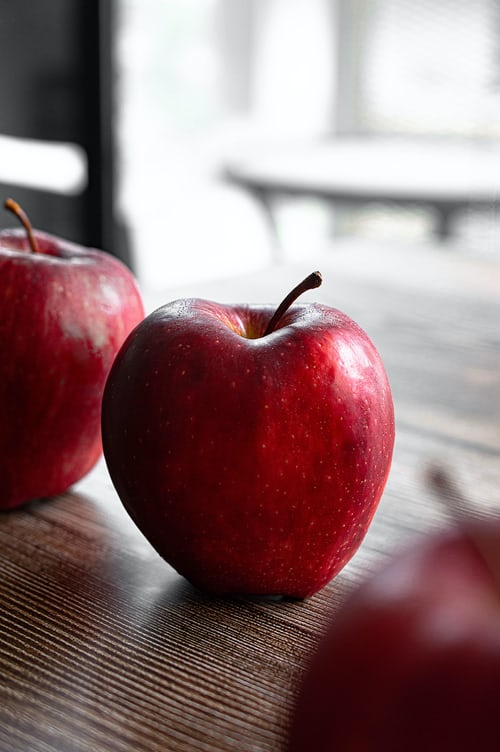apple: (100, 264, 395, 599), (271, 505, 496, 748), (1, 196, 146, 512)
